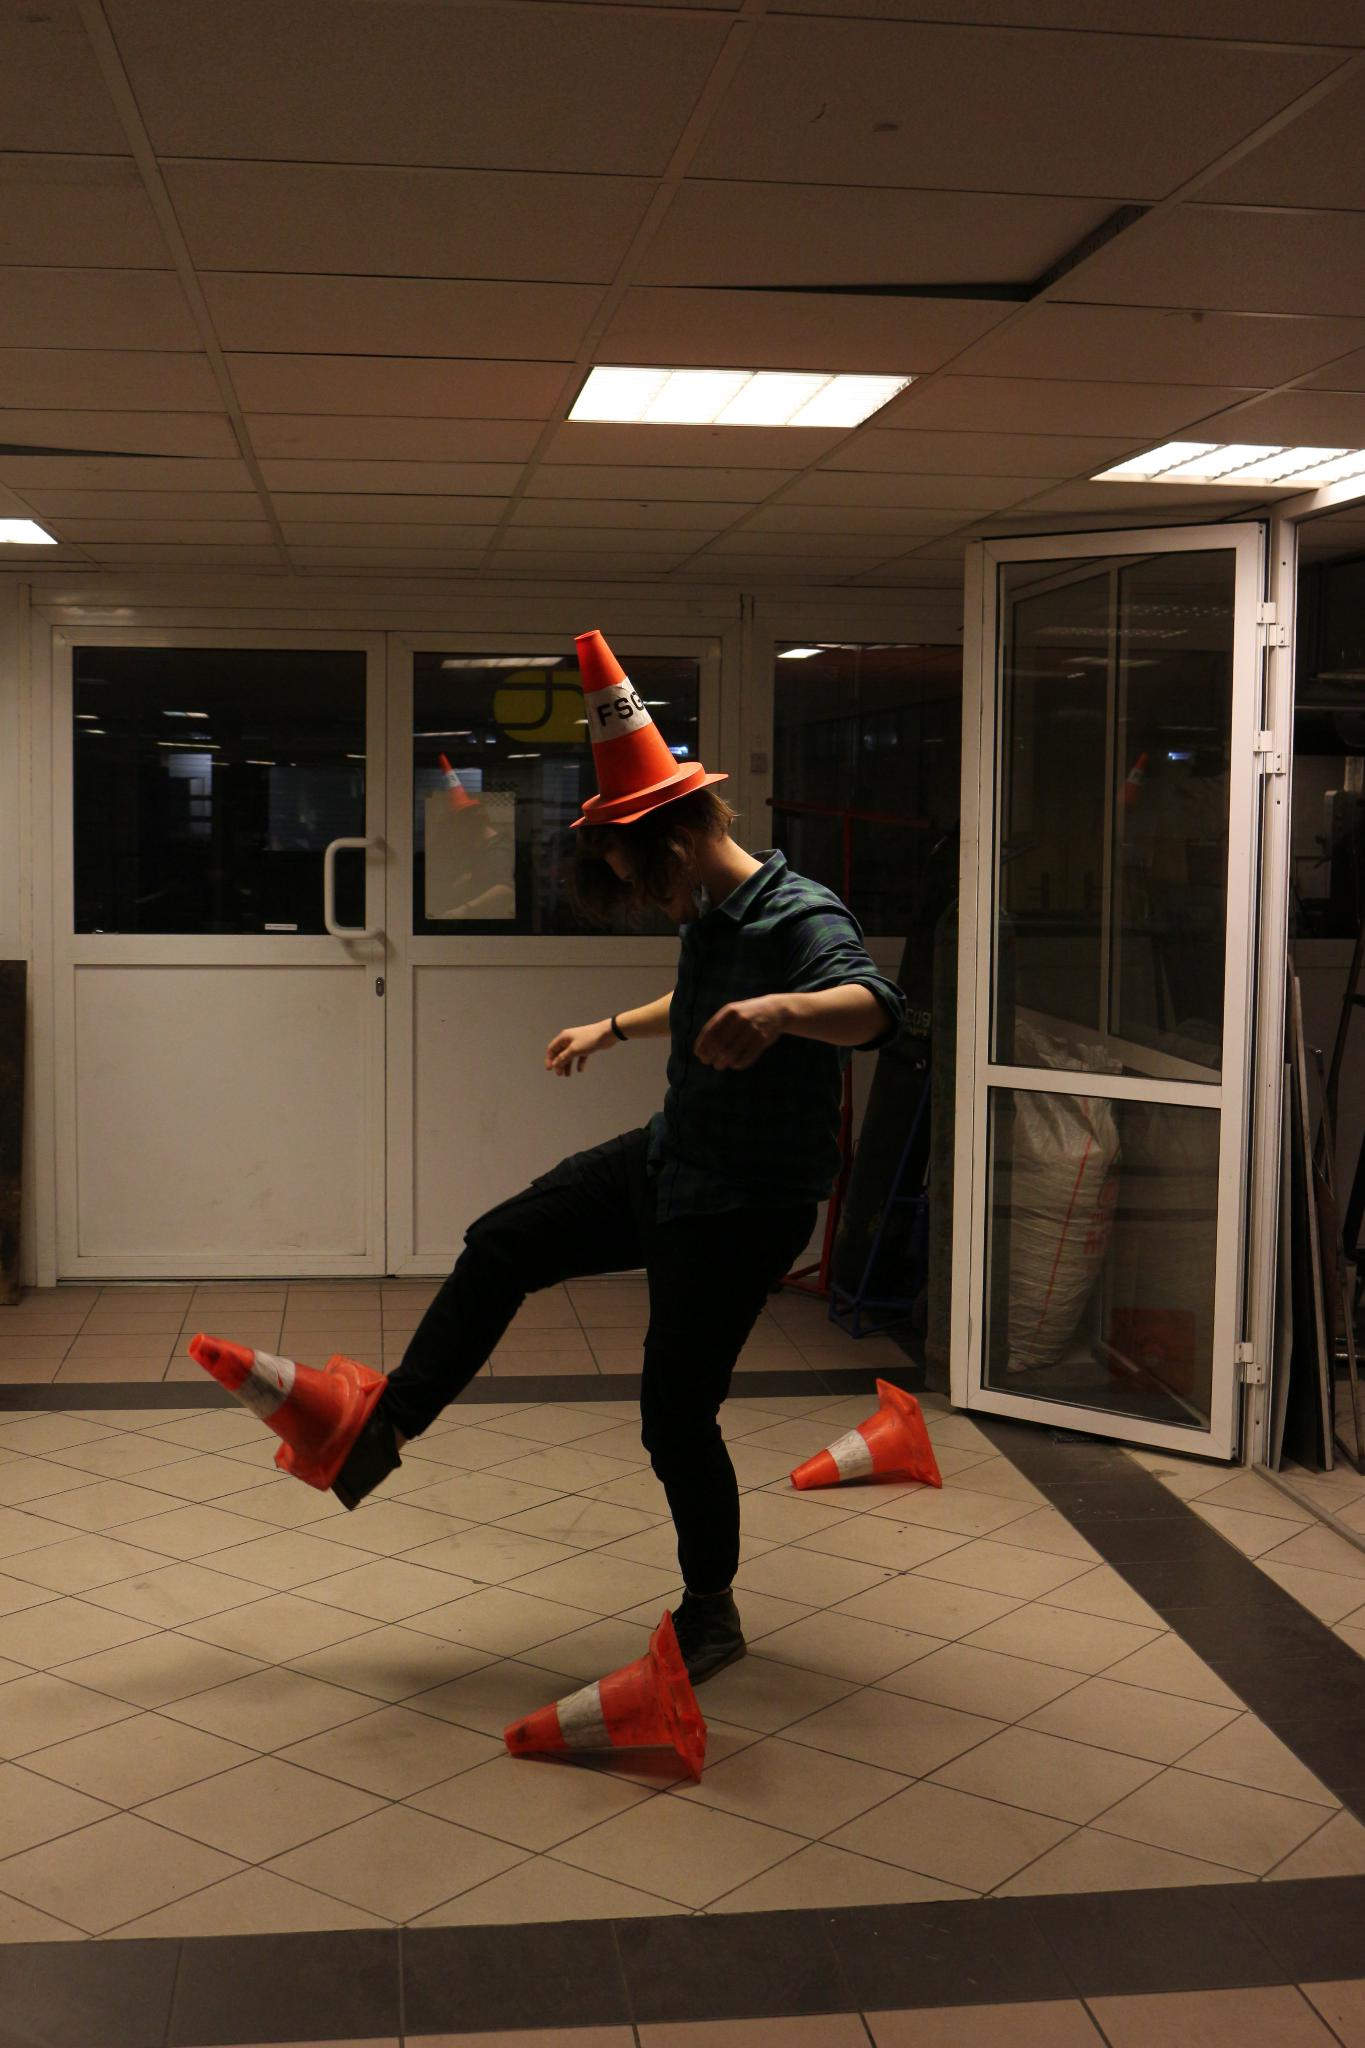Orange_Cone: (175, 1313, 390, 1491), (565, 611, 719, 831), (501, 1634, 713, 1769), (778, 1380, 951, 1504)
